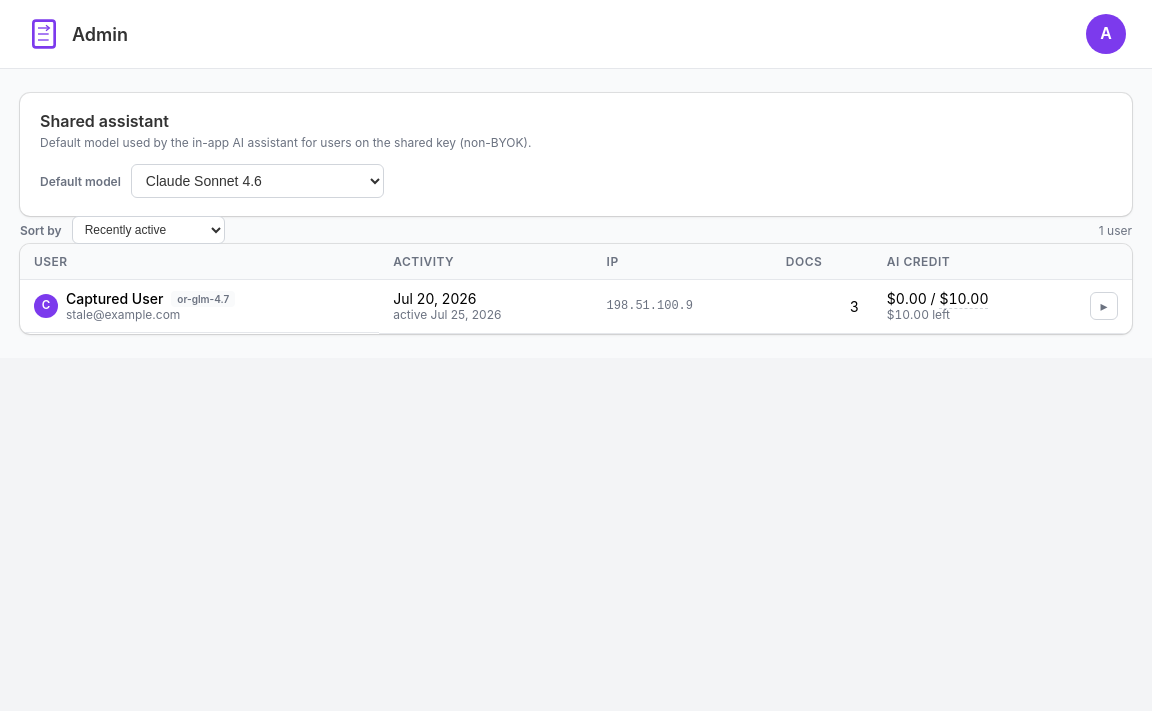
Test: AdminPage — per-user chat model override (feature 035) › FR-010: a stored-but-ineligible override renders as "unavailable — using X", never Default
The width and height of the screenshot is (1152, 711).
Click the button named "Expand details" at (1104, 306), box x1=1090 y1=292 x2=1118 y2=320
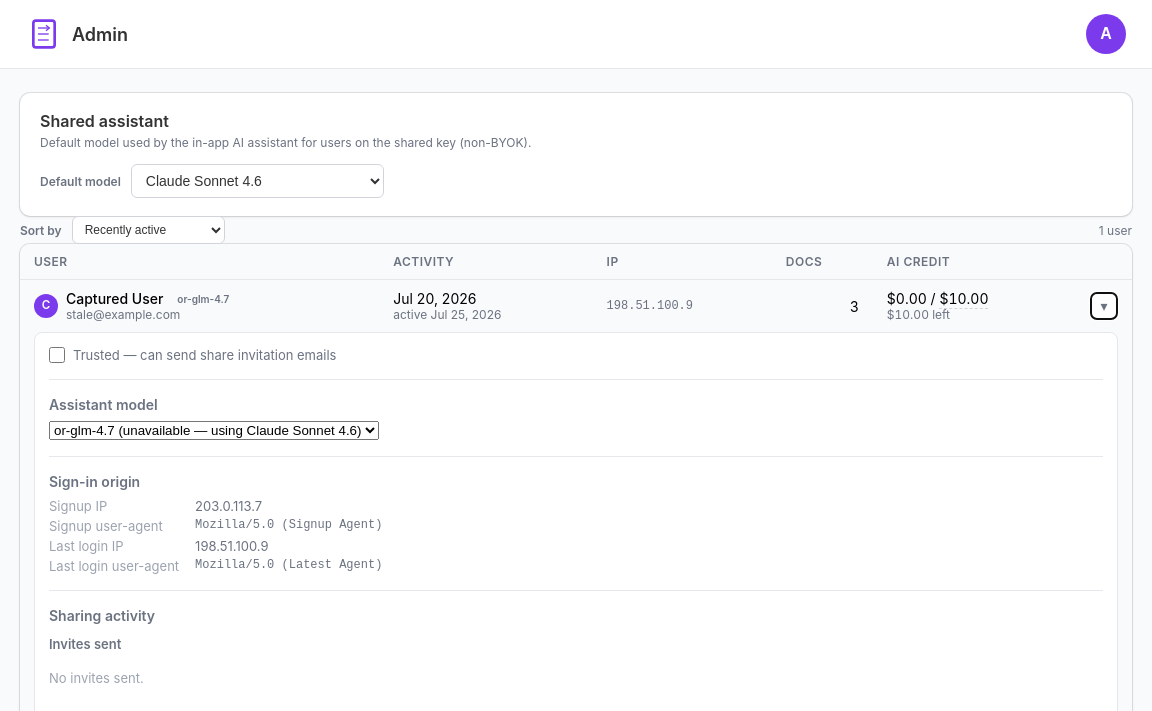
Check: the 3rd dropdown shows "or-glm-4.7 (unavailable — using Claude Sonnet 4.6)", box x1=49 y1=421 x2=379 y2=440
